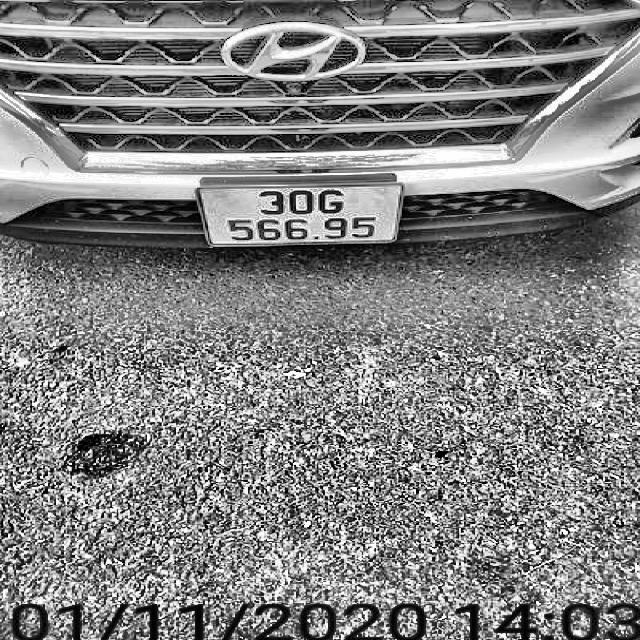plate: (190, 180, 409, 252)
